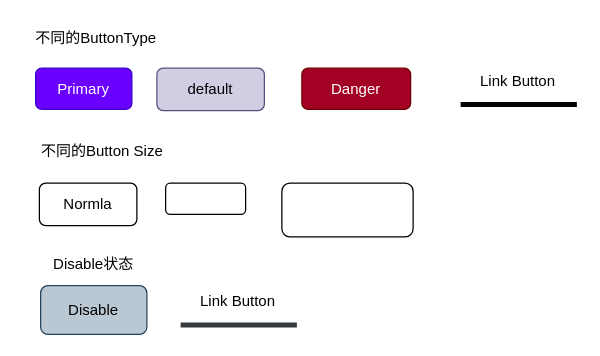
The diagram is 600 pixels wide and 356 high, and some of its shapes have lost their labels. Here are the shapes that lost their labels. From the top down, the centre of each, then its label:
the point at 205,198: small
the point at 347,209: Large
